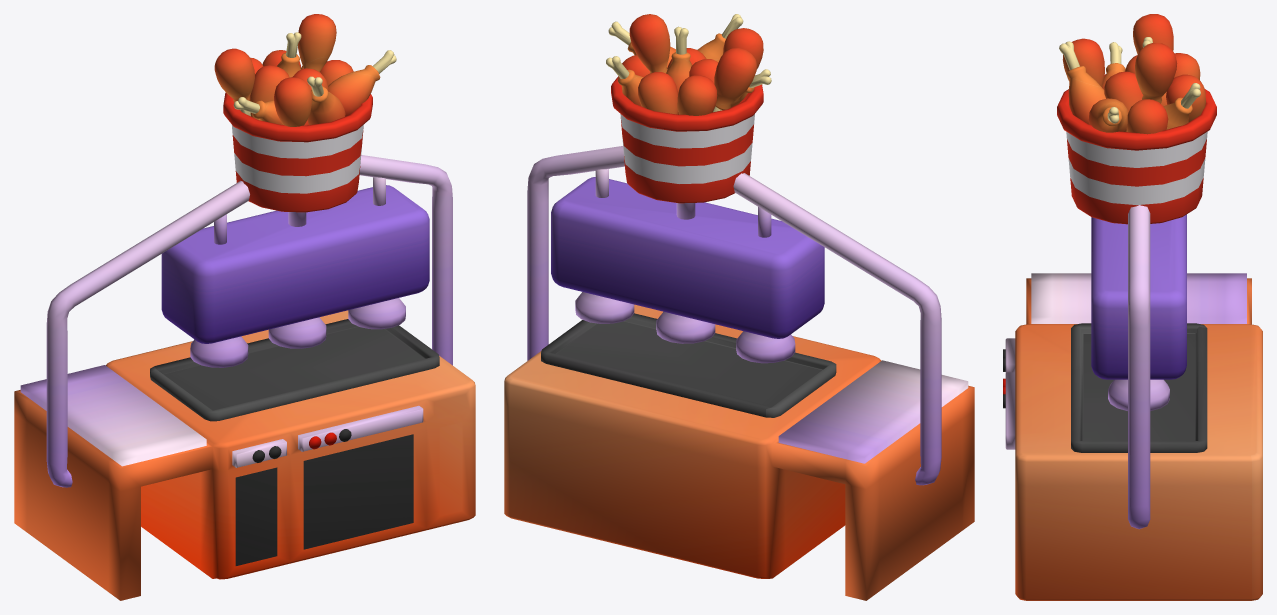
The model's file is Chicken-Machine.fbx.
The picture shows the model from 3 angles, left to right: view 1: azimuth 30°, elevation 25°; view 2: azimuth 150°, elevation 25°; view 3: azimuth 270°, elevation 25°; orthographic projection. The views are drawn at different scales.
Visible parts, largest first — view 1: Chicken-Machine; view 2: Chicken-Machine; view 3: Chicken-Machine.
Boxes of the visible parts, x1,y1,x2,y2 form: Chicken-Machine: (14, 14, 475, 600); Chicken-Machine: (504, 14, 974, 600); Chicken-Machine: (1003, 14, 1262, 600).
Bounding box in the file's own units: 474 × 536 × 249.
